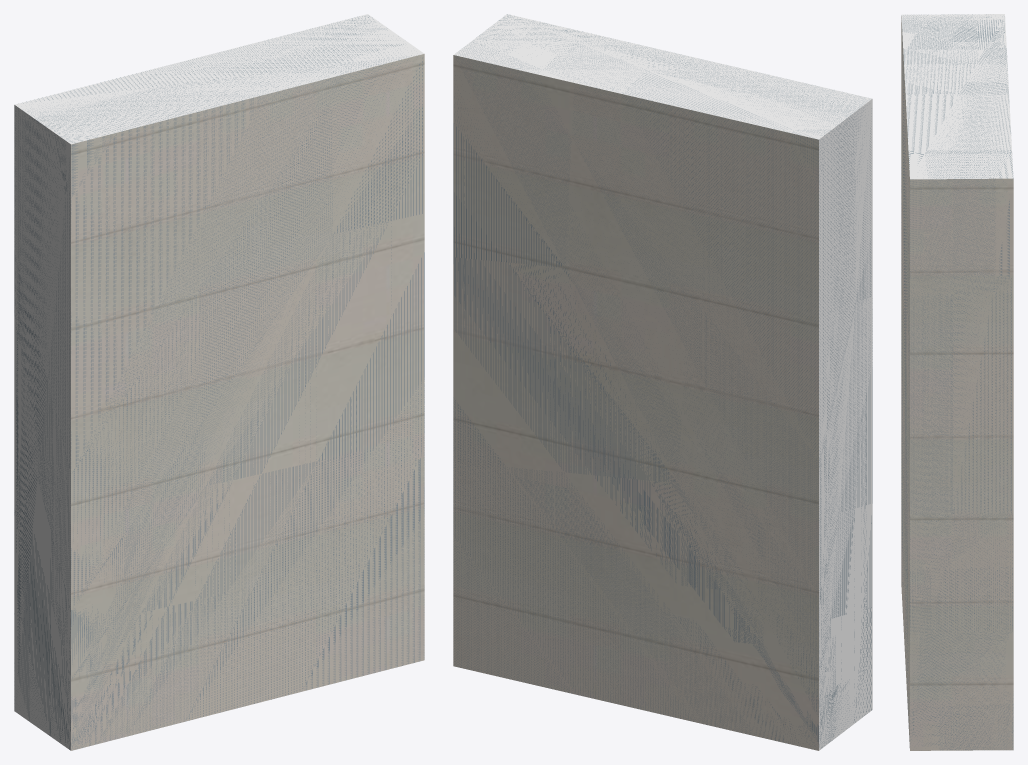
Rendered from 水立方51.dae.
3 views of the same model, side by side, from view 1: azimuth 30°, elevation 25°; view 2: azimuth 150°, elevation 25°; view 3: azimuth 270°, elevation 25° (orthographic). The views are drawn at different scales.
Parts seen in each view (by area): view 1: Component_2 (×2); view 2: Component_2 (×2); view 3: Component_2 (×2).
Part boxes in pixels (bbox=[...]): Component_2 (×2): bbox=[14, 14, 424, 750]; Component_2 (×2): bbox=[453, 14, 872, 750]; Component_2 (×2): bbox=[901, 14, 1013, 750].
Size of the model in its own units: 104 by 29.91 by 168.
3 materials, 1 textured.
